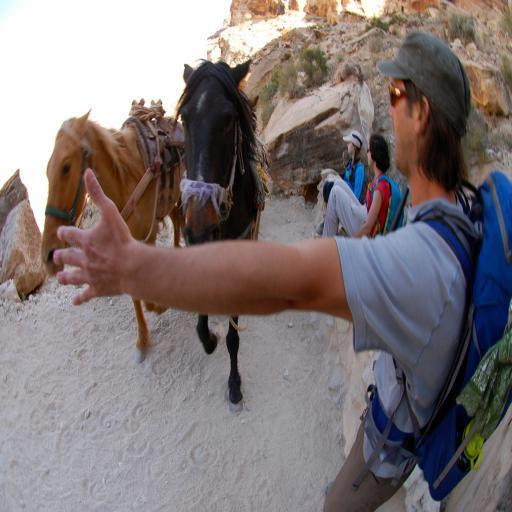horse: (41, 112, 189, 370), (174, 56, 270, 418)
